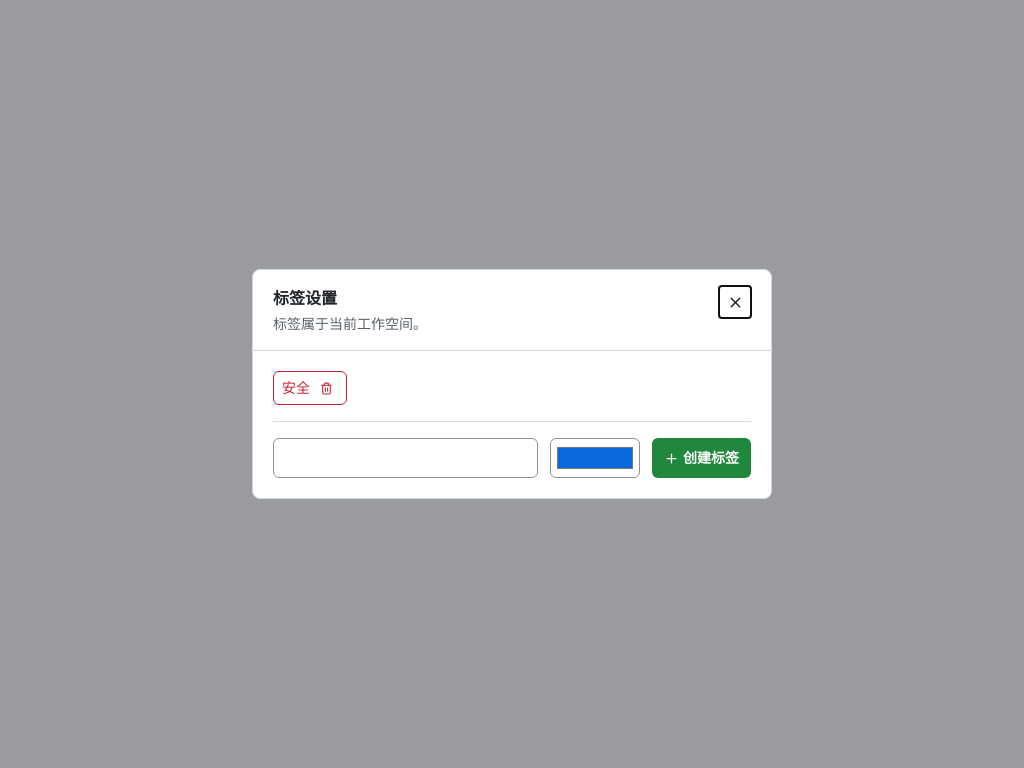
Test: TaskLabelSettingsDialog › keeps an in-use label and explains the conflict
The image size is (1024, 768).
Click the button named "删除安全". click: (326, 388)
box: [314,376,338,400]
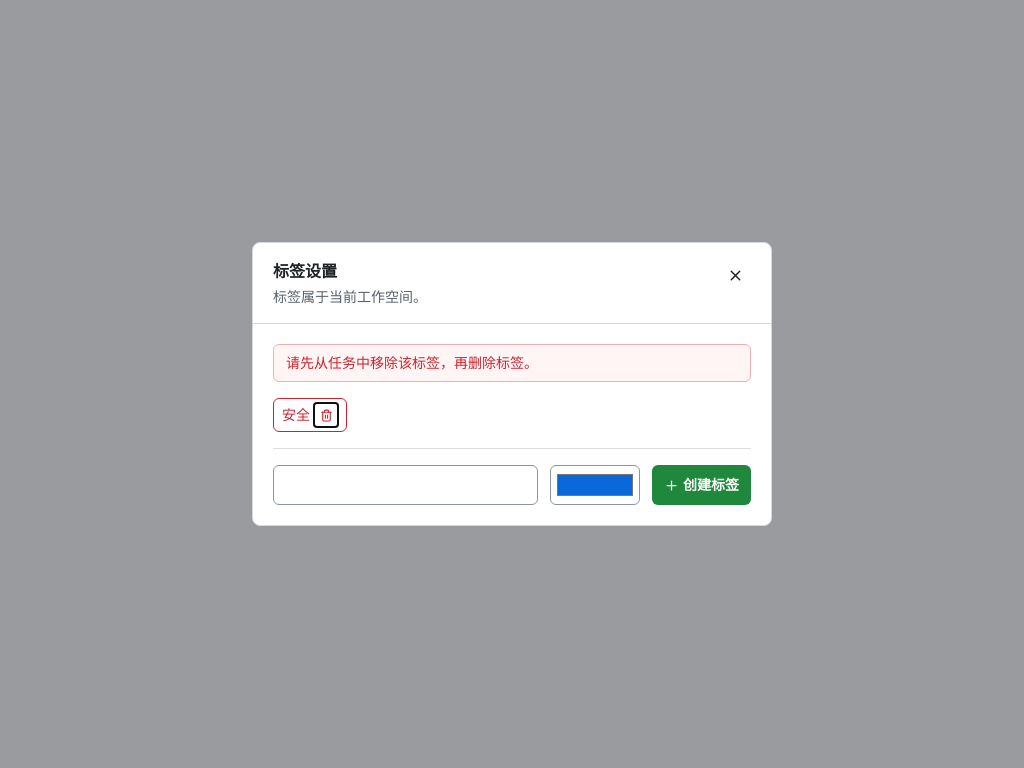
Expected: the message shows "请先从任务中移除该标签", [286,354,538,371]
